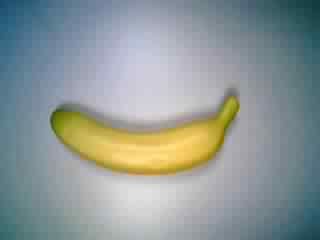banana: (46, 99, 245, 173)
